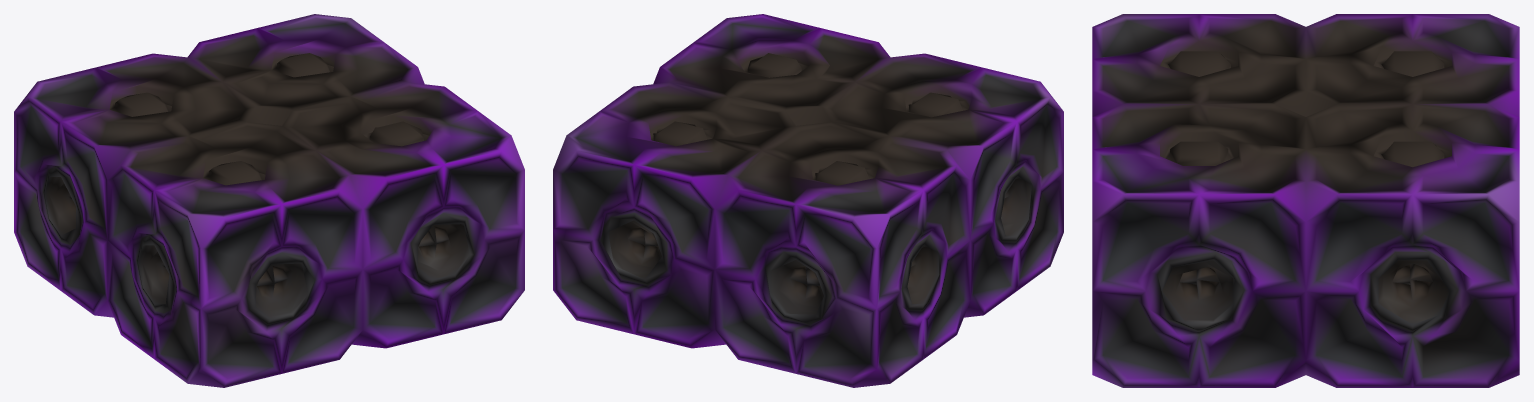
The model's file is ciws_base_lod2.glb.
3 renders of one model, left to right at view 1: azimuth 30°, elevation 25°; view 2: azimuth 150°, elevation 25°; view 3: azimuth 270°, elevation 25°, orthographic. The views are drawn at different scales.
Visible parts, largest first — view 1: ciws_base; view 2: ciws_base; view 3: ciws_base.
Part boxes in pixels (<box>): ciws_base: <box>14,14,524,387</box>; ciws_base: <box>553,14,1063,387</box>; ciws_base: <box>1092,14,1519,387</box>.
Size of the model in its own units: 4 by 2 by 4.
